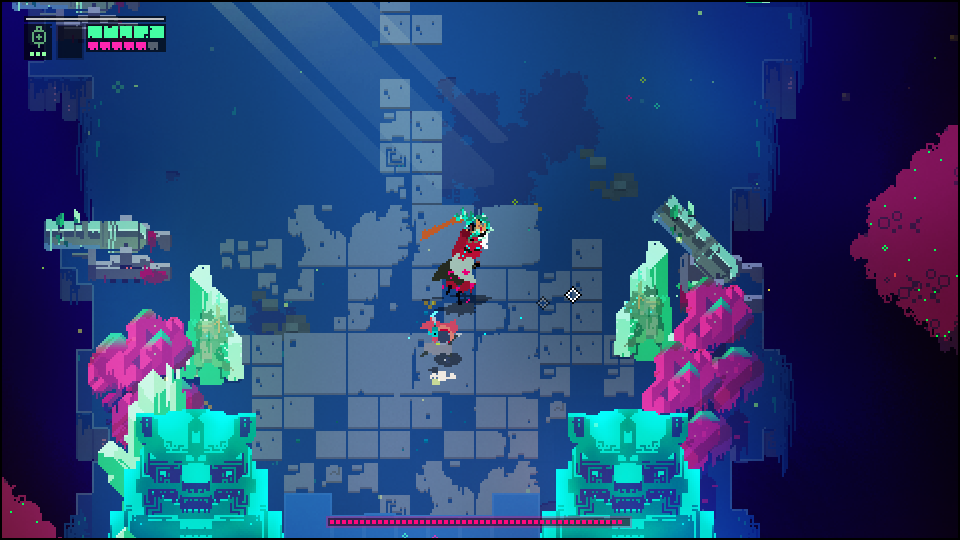hanged_man: (418, 208, 492, 304)
player: (421, 312, 464, 366)
